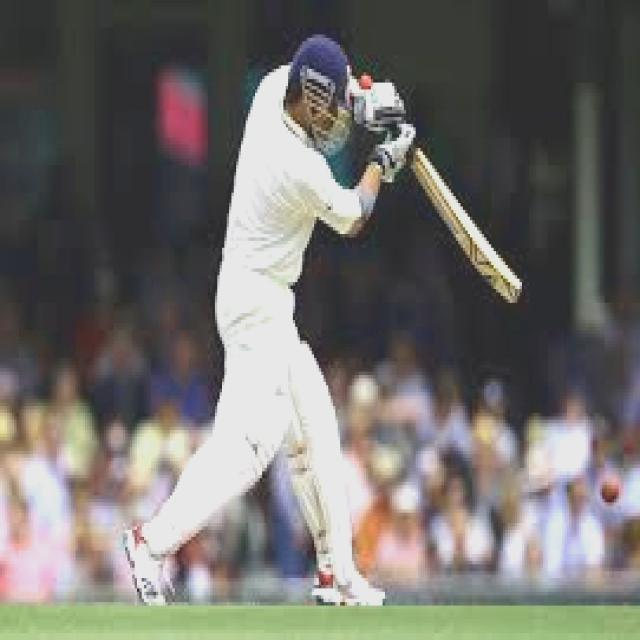bat: (404, 149, 530, 307)
toe: (504, 279, 522, 304)
